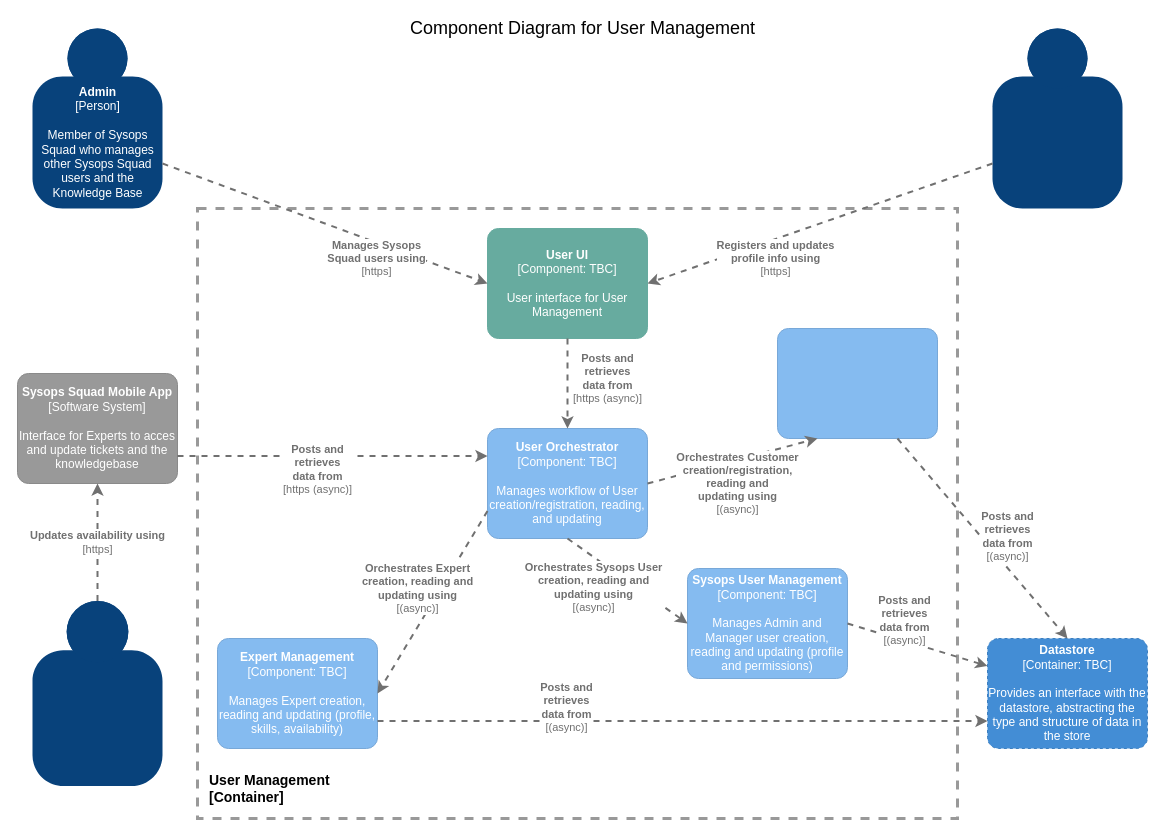
The diagram is 1165 pixels wide and 837 high, and some of its shapes have lost their labels. The shapes that lost their labels are listed below. From the top down, each one's centre as x and y in pixels, then its label:
(1057,118): Customer [Person] A customer of Penultimate Electronics
(857,383): Customer Management [Component: TBC] Manages assignment of Tickets to Experts
(97,693): Expert [Person] Member of Sysops Squad who acts on tickets
